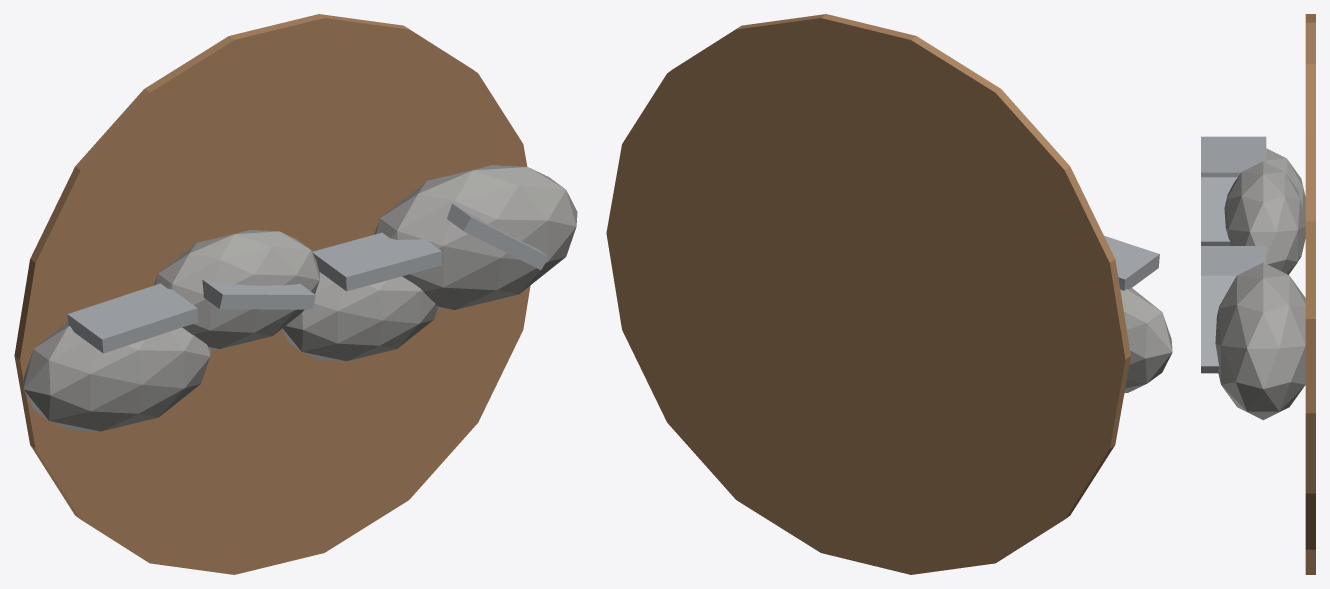
The model's file is 03_ambient_object_cluster.glb.
3 renders of one model, left to right at view 1: azimuth 30°, elevation 25°; view 2: azimuth 150°, elevation 25°; view 3: azimuth 270°, elevation 25°, orthographic. The views are drawn at different scales.
Parts seen in each view (by area): view 1: scatter_base, scrap_rock_3, scrap_rock_0, scrap_rock_1, scrap_rock_2, scrap_plate_0, scrap_plate_2, scrap_plate_1, scrap_plate_3; view 2: scatter_base, scrap_rock_0, scrap_plate_0; view 3: scrap_rock_3, scrap_rock_1, scatter_base, scrap_plate_0, scrap_plate_3, scrap_plate_1, scrap_plate_2, scrap_rock_0.
Boxes of the visible parts, <box> form: scatter_base: <box>14,14,530,574</box>; scrap_rock_3: <box>374,165,577,309</box>; scrap_rock_0: <box>23,322,210,431</box>; scrap_rock_1: <box>154,230,320,348</box>; scrap_rock_2: <box>282,272,437,361</box>; scrap_plate_0: <box>67,283,198,353</box>; scrap_plate_2: <box>312,232,442,291</box>; scrap_plate_1: <box>202,279,315,309</box>; scrap_plate_3: <box>447,203,548,270</box>; scatter_base: <box>606,14,1130,574</box>; scrap_rock_0: <box>1120,288,1172,393</box>; scrap_plate_0: <box>1104,235,1159,290</box>; scrap_rock_3: <box>1215,262,1305,420</box>; scrap_rock_1: <box>1224,161,1305,274</box>; scatter_base: <box>1305,14,1315,574</box>; scrap_plate_0: <box>1201,136,1266,177</box>; scrap_plate_3: <box>1201,275,1236,373</box>; scrap_plate_1: <box>1201,177,1237,245</box>; scrap_plate_2: <box>1201,246,1266,275</box>; scrap_rock_0: <box>1266,148,1305,260</box>.
Size of the model in its own units: 2.03 by 1.87 by 0.3875.
